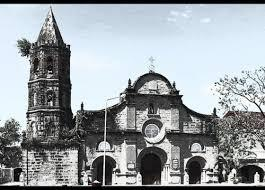barasoain_church_malolos_bulacan: (19, 4, 219, 185)
